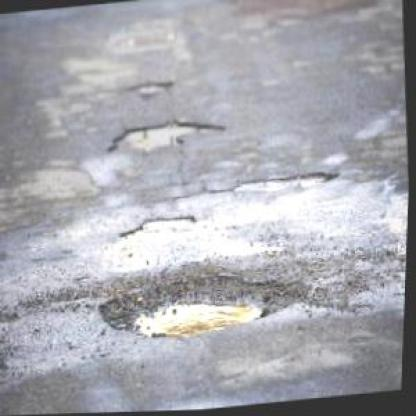pothole: (97, 264, 311, 346), (107, 116, 226, 156), (232, 169, 340, 194), (119, 215, 198, 240), (125, 79, 176, 96)
